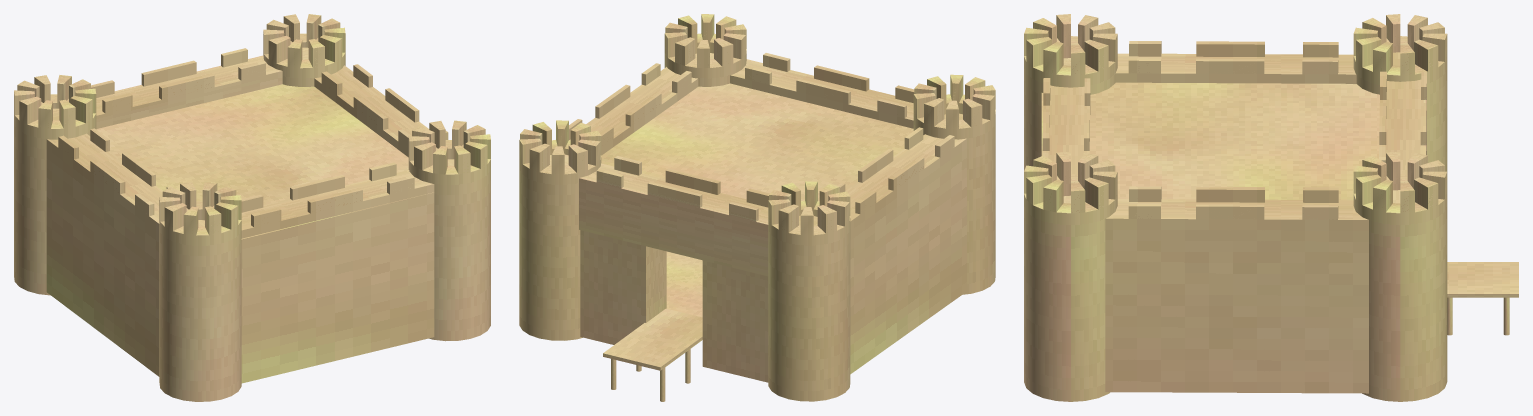
The model's file is castle.fbx.
The picture shows the model from 3 angles, left to right: view 1: azimuth 30°, elevation 25°; view 2: azimuth 150°, elevation 25°; view 3: azimuth 270°, elevation 25°; orthographic projection. The views are drawn at different scales.
Parts seen in each view (by area): view 1: nurbsCube1_topnurbsCube1; view 2: nurbsCube1_topnurbsCube1; view 3: nurbsCube1_topnurbsCube1.
Part boxes in pixels (x1,y1,x2,y2): nurbsCube1_topnurbsCube1: [14, 14, 490, 401]; nurbsCube1_topnurbsCube1: [519, 14, 995, 401]; nurbsCube1_topnurbsCube1: [1024, 14, 1518, 401].
Bounding box in the file's own units: 8.96 × 5.14 × 10.57.
1 material, 1 textured.
